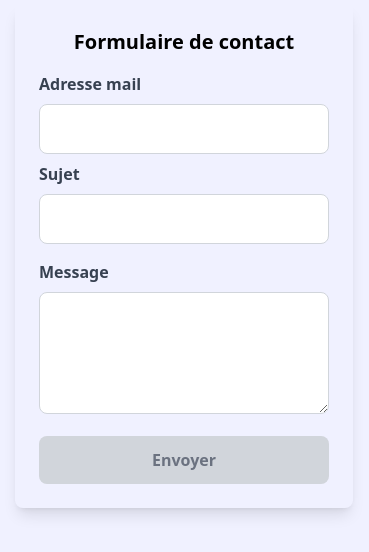
ContactForm › envoie le formulaire et affiche un message de succès
The image size is (369, 552).
Step 1. Type "user@example.com" into the field labelled "Adresse mail" → (184, 129), box x1=39 y1=104 x2=329 y2=154
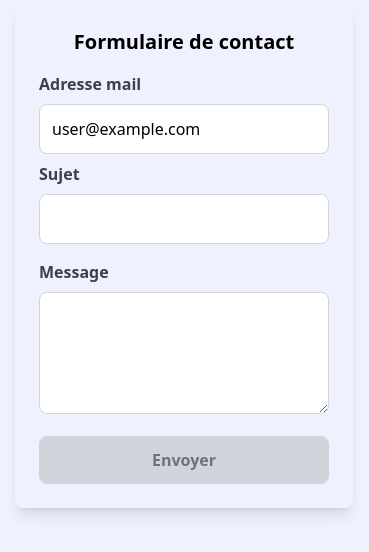
Step 2. Type "Question" into the field labelled "Sujet" → (184, 219), box x1=39 y1=194 x2=329 y2=244
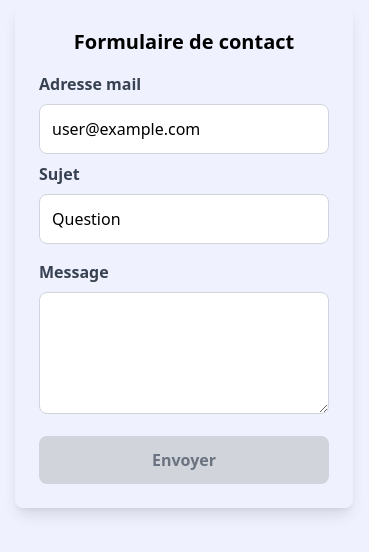
Step 3. Type "Bonjour" into the text box labelled "Message" → (184, 353), box x1=39 y1=292 x2=329 y2=414
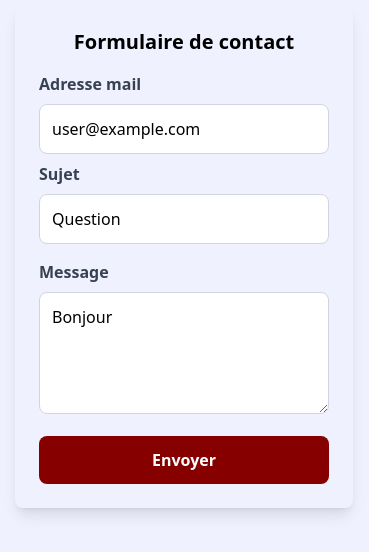
Step 4. Click the button "Envoyer" → click(184, 460), box x1=39 y1=436 x2=329 y2=484
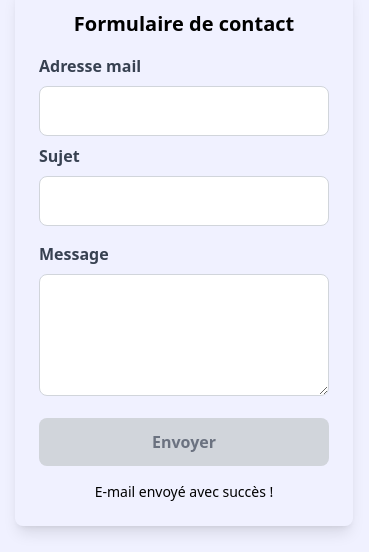
Check: the message shows "E-mail envoyé avec succès", box x1=95 y1=482 x2=273 y2=501
Check: the field labelled "Adresse mail" is empty, box x1=39 y1=86 x2=329 y2=136
